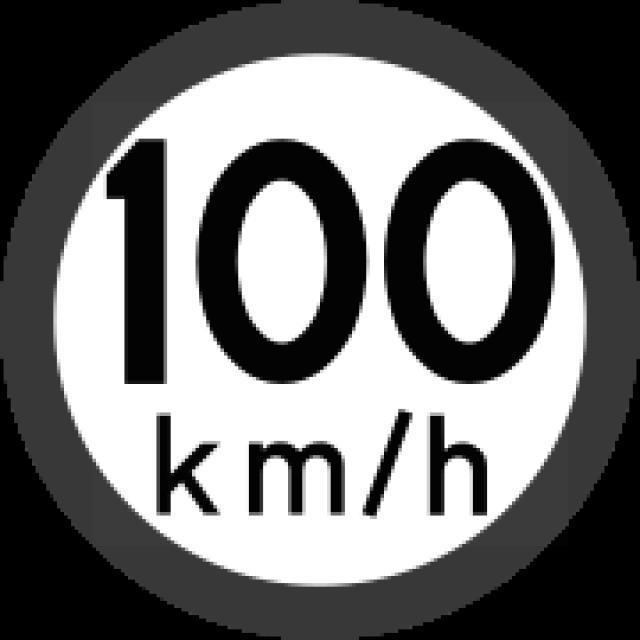speed limit 100: (30, 31, 613, 602)
